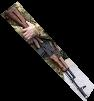gun: (0, 1, 94, 101)
